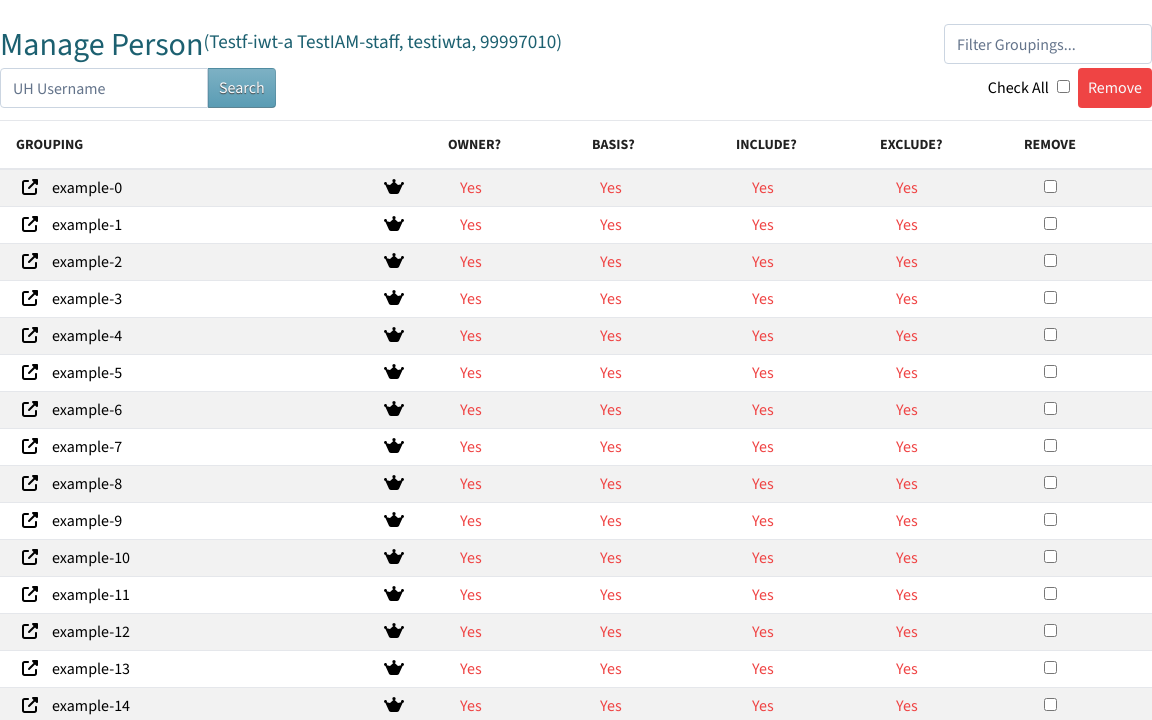
Test case: PersonTable › opens error modal when user is the sole owner of a grouping
The width and height of the screenshot is (1152, 720).
Click the checkbox with test id "person-remove" in the row of "example-0".
click(1050, 186)  # box [1044,180,1057,192]
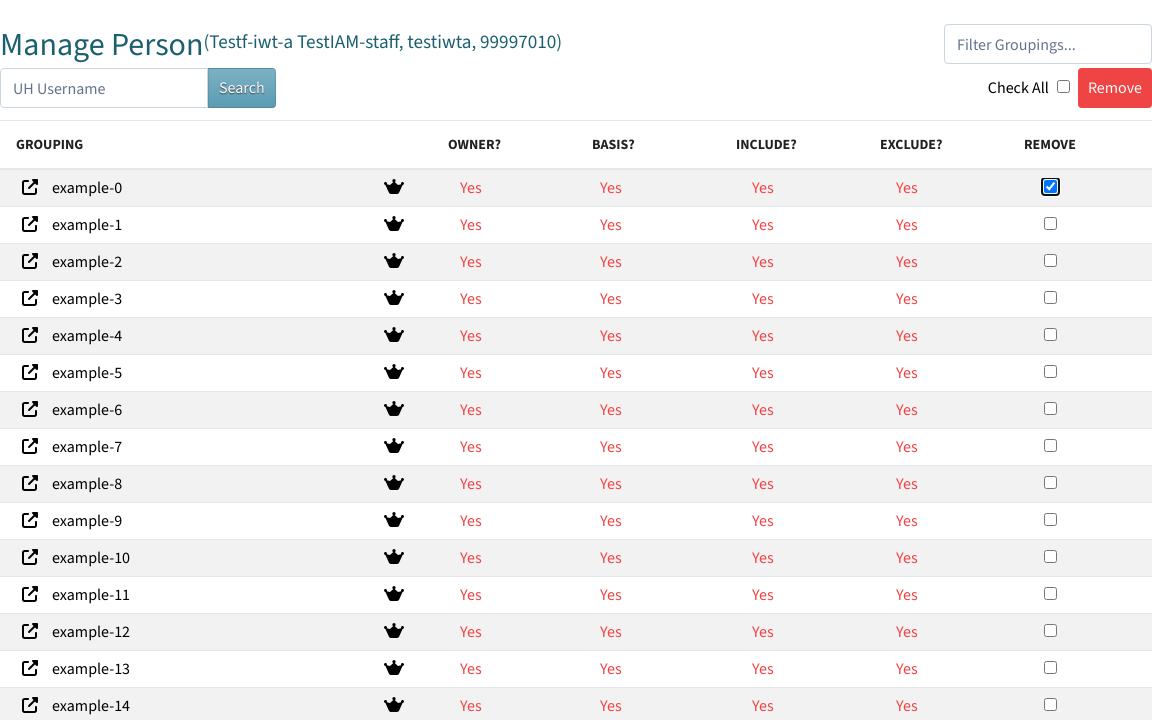
Click the button "Remove".
click(1115, 88)  # box [1078,68,1151,108]
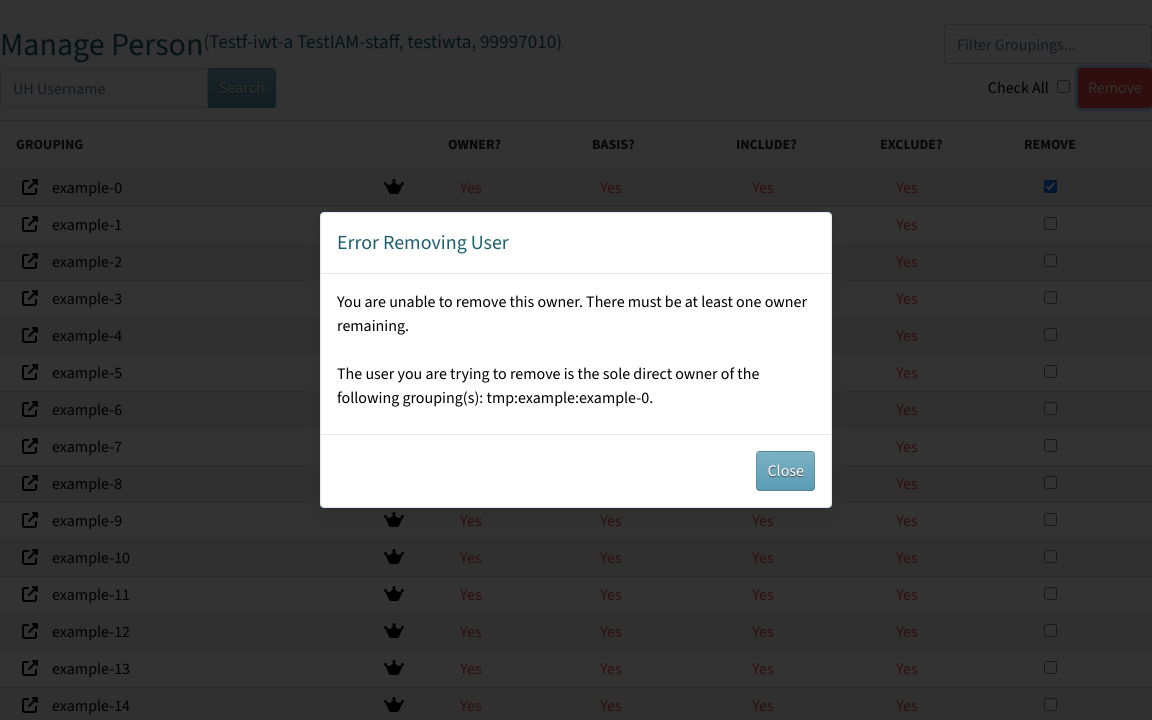
Expected: the dialog is shown, [320,212,832,508]
Expected: the heading "Error Removing User" is shown, [321,229,831,274]
